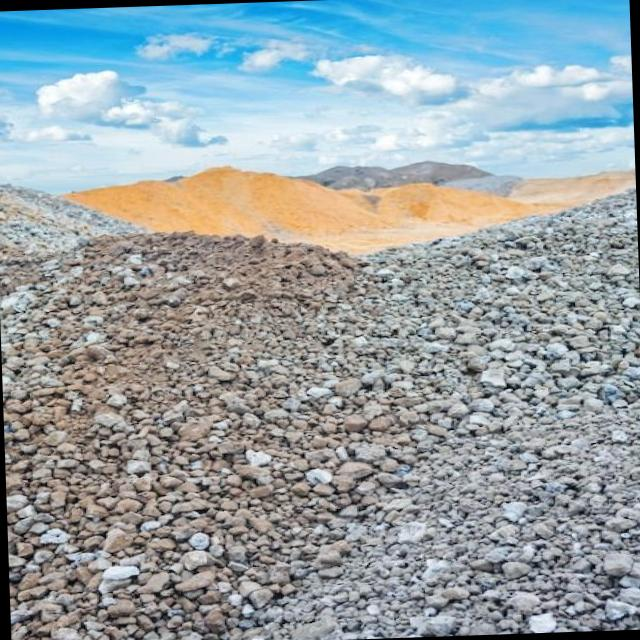red-sand: (65, 167, 576, 251)
rocks: (0, 185, 640, 640)
